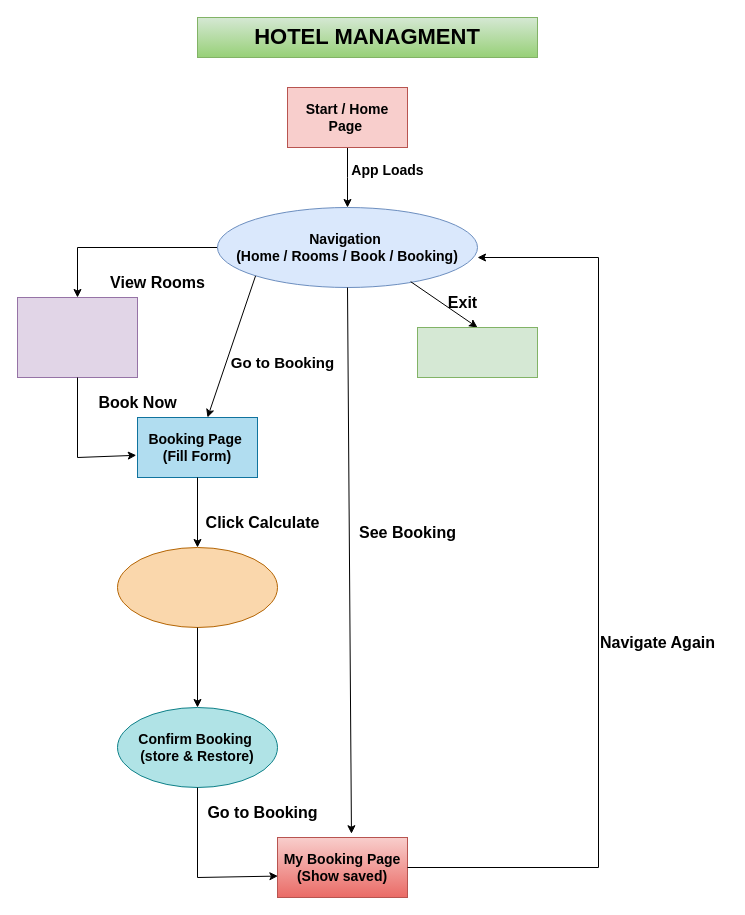
Image size: 745x915. Some labels were removed from this diagram. Here are the shapes that lost their labels. From the top down, the centre of each, then its label:
At (77,337): "Rooms Page (Rooms Cards Shown)".
At (477,352): "Exist App".
At (197,587): "Calculate Price".
